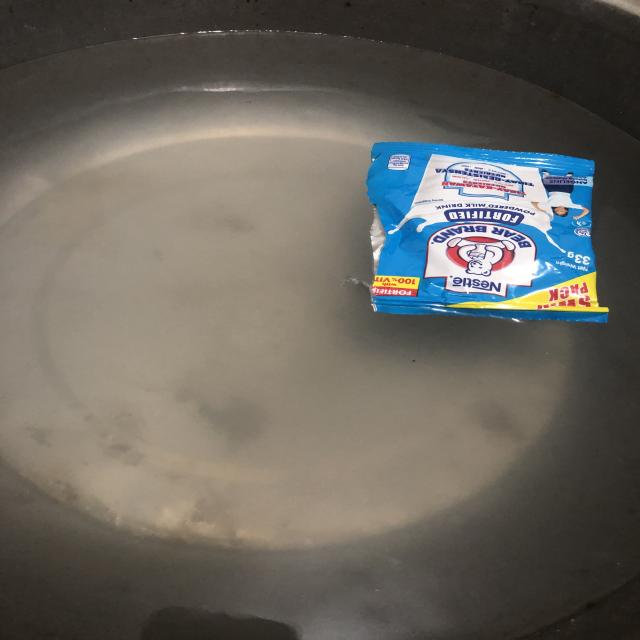Plastic Wrapper: (366, 142, 608, 322)
